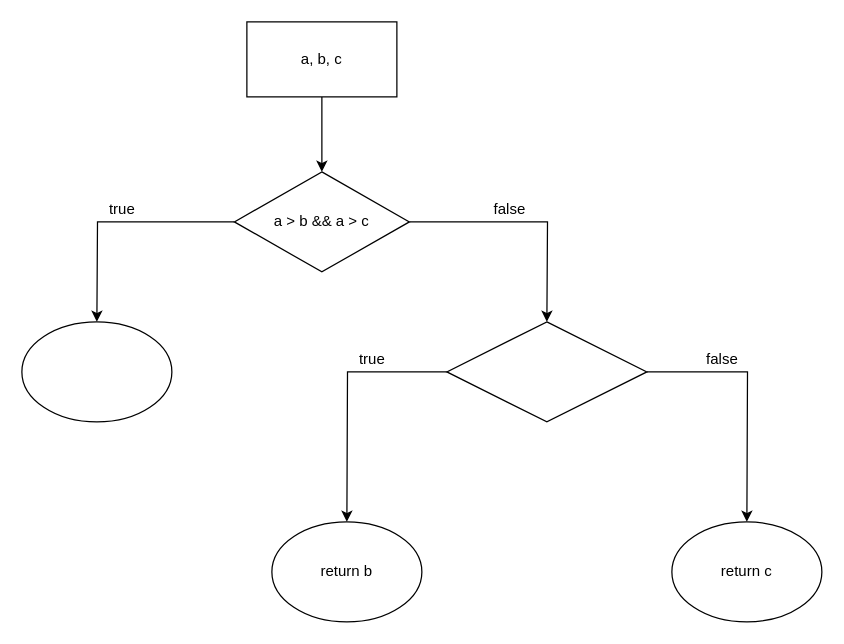
Image size: 844x644. Some labels were removed from this diagram. The centre of each missing label's shape, as x and y in pixels:
"b > c" goes at point (546, 371).
"return a" goes at point (96, 371).
